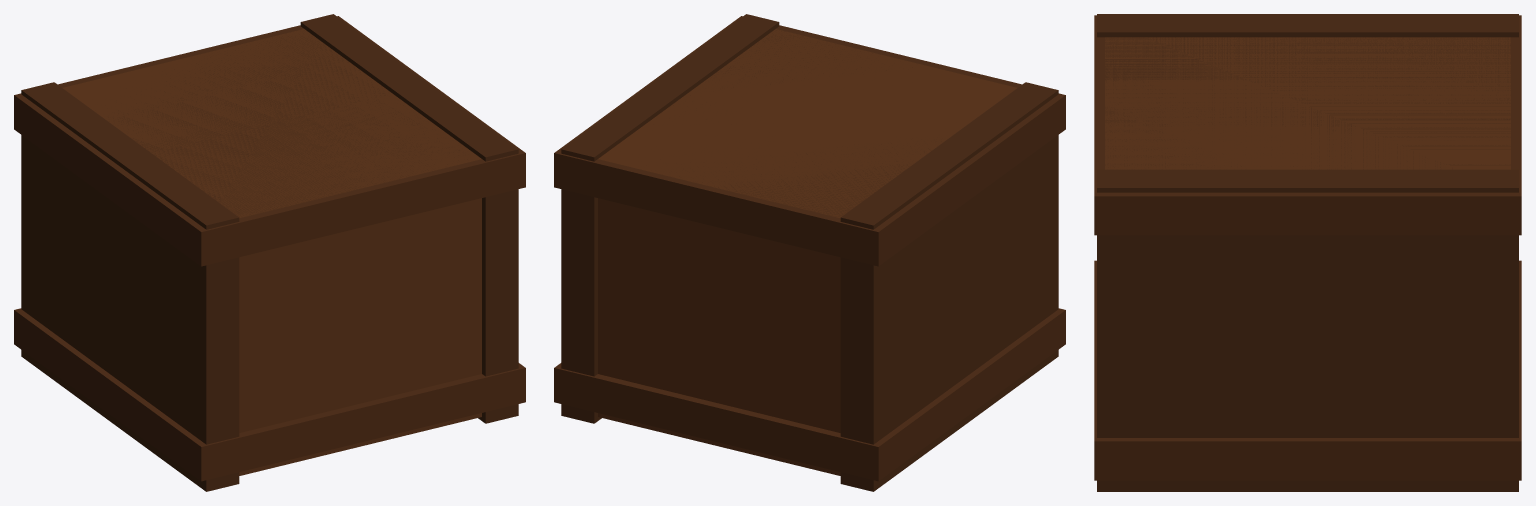
File: crate.obj
3 renders of one model, left to right at view 1: azimuth 30°, elevation 25°; view 2: azimuth 150°, elevation 25°; view 3: azimuth 270°, elevation 25°, orthographic. The views are drawn at different scales.
Bounding box in the file's own units: 0.79 × 0.62 × 0.79.
